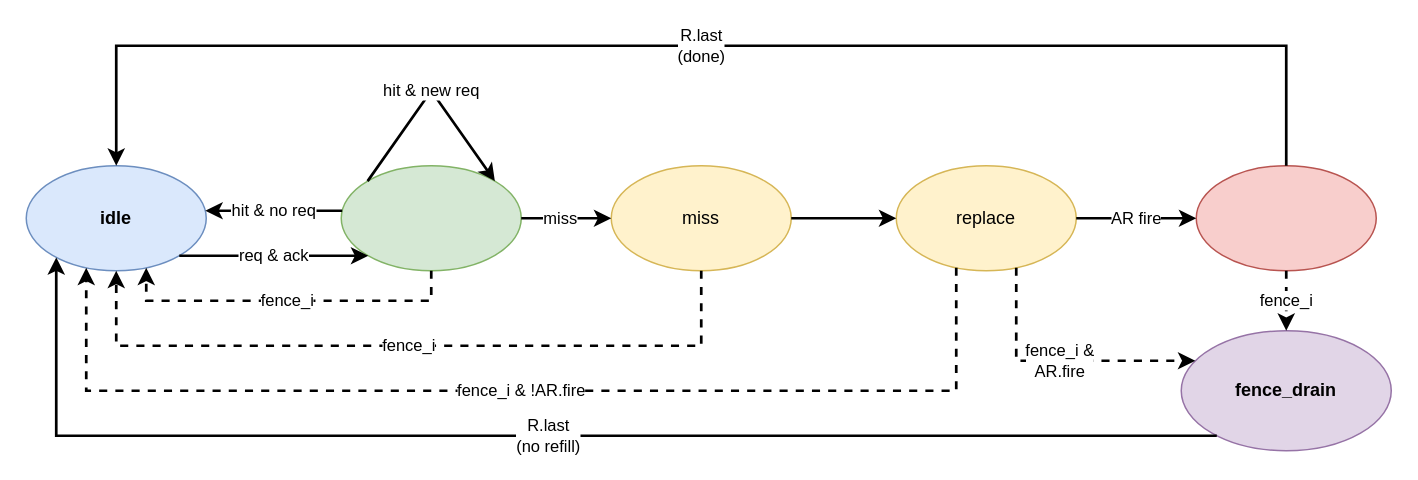
This 1418x480 diagram has some shape labels left out. Each missing label, with the centre of its shape:
"lookup" goes at (x=430, y=217).
"refill" goes at (x=1285, y=217).
